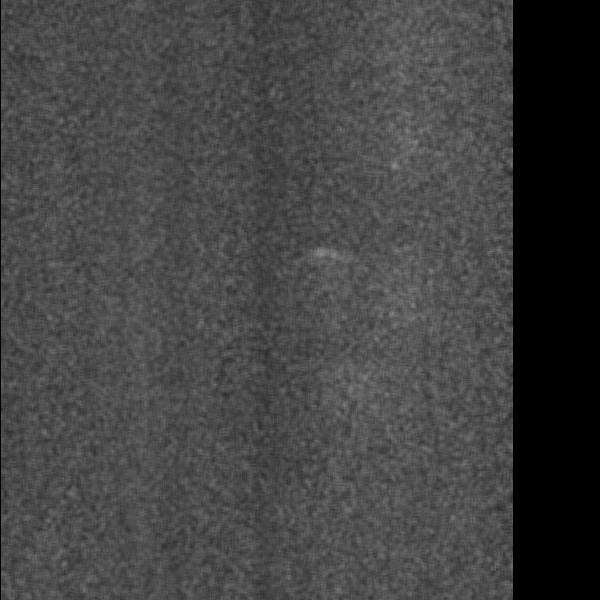spark: (381, 155, 407, 172)
